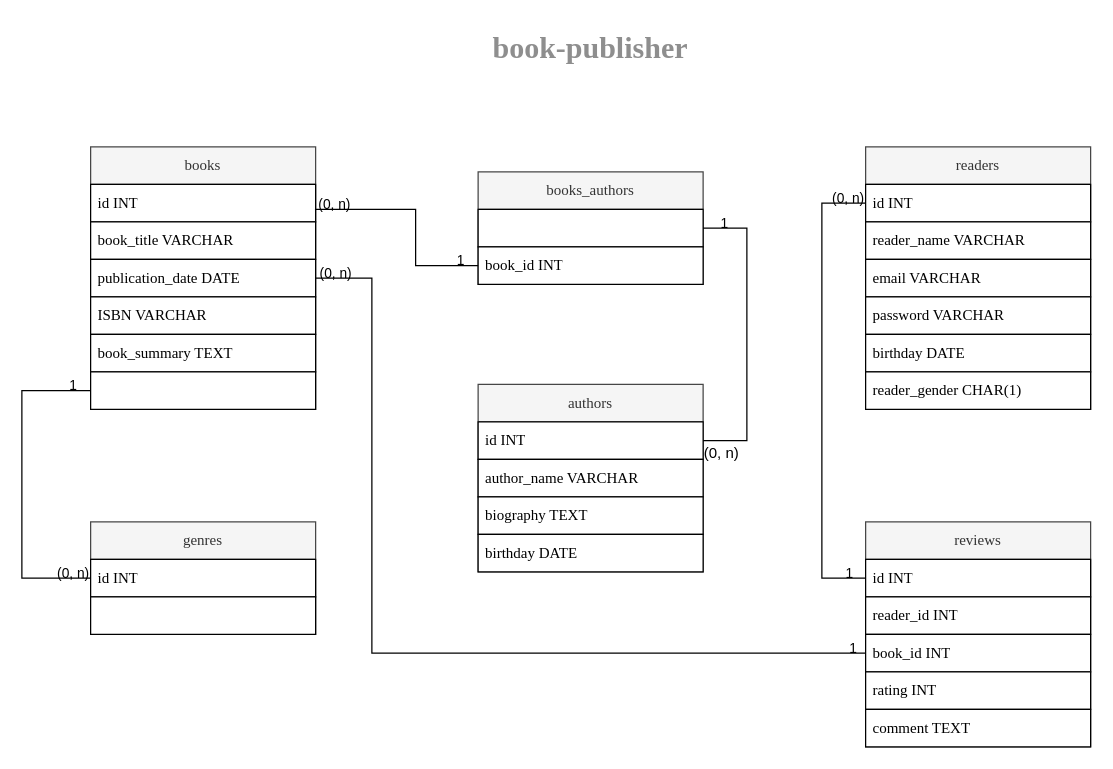
The diagram is 1113 pixels wide and 769 high, and some of its shapes have lost their labels. The centre of each missing label's shape, as x and y in pixels:
author_id INT: point 590,227
genre_ID INT: point 202,390
genre_title VARCHAR: point 202,615
